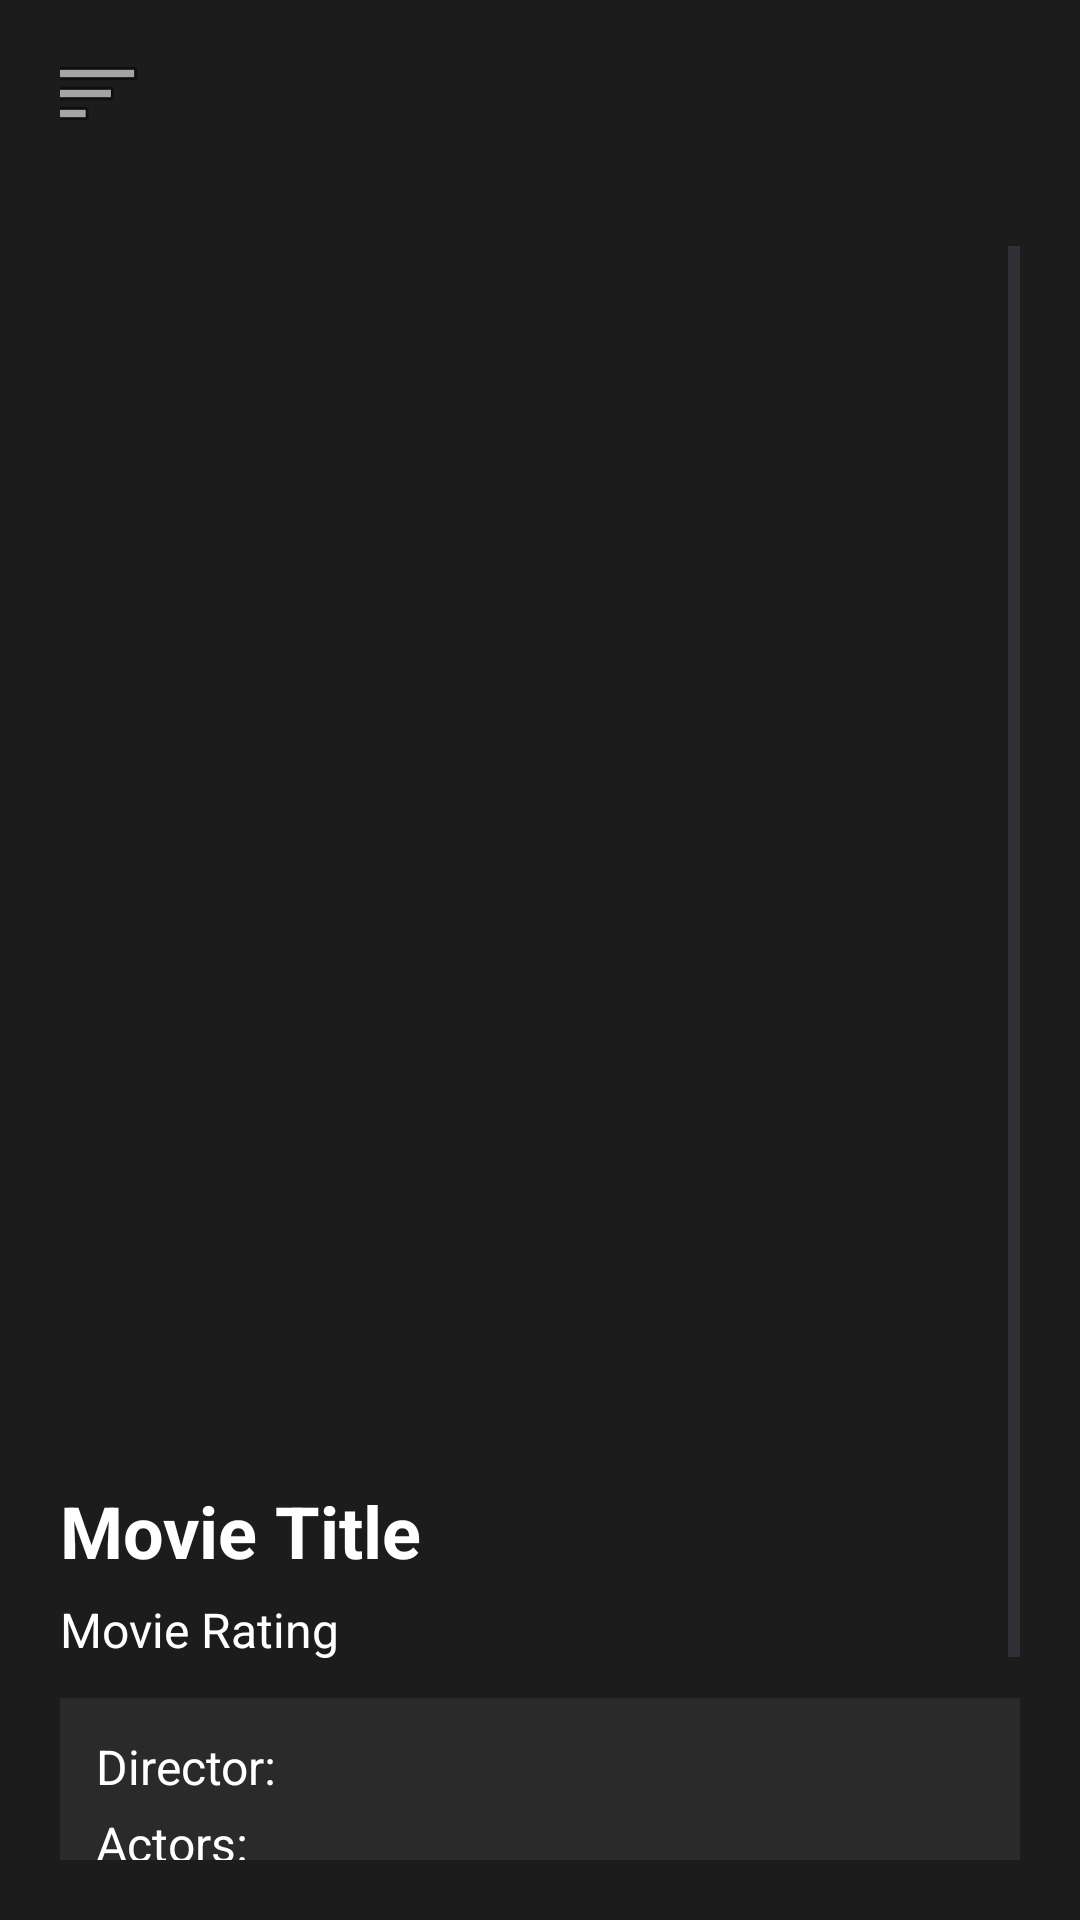

Icons on this 1080w x 1920h Android screen, each with its box as (x1, y1, x2, y2):
Open Menu: (60, 70, 134, 117)
